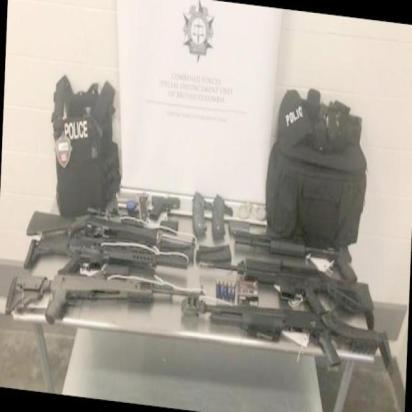Gun: (206, 291, 393, 380), (2, 260, 204, 340)
